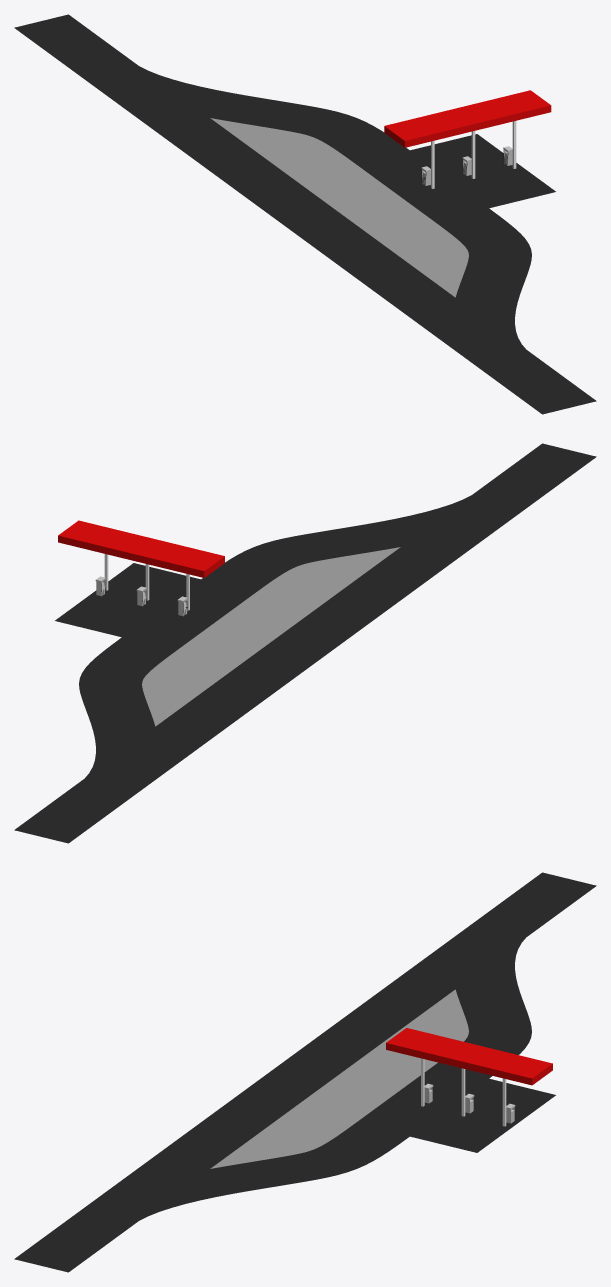
Rendered from GasStation.glb.
3 views of the same model, one above another, from view 1: azimuth 30°, elevation 25°; view 2: azimuth 150°, elevation 25°; view 3: azimuth 330°, elevation 25° (orthographic).
Parts seen in each view (by area): view 1: Road, BézierCurve.002, BézierCurve.003, GasFloor, Roof, Pole; view 2: Road, BézierCurve.002, BézierCurve.003, GasFloor, Roof; view 3: Road, BézierCurve.002, BézierCurve.003, GasFloor, Roof, Pole.
Part boxes in pixels (left/top/right/bottom): Road: left=14, top=14, right=596, bottom=414; BézierCurve.002: left=80, top=60, right=532, bottom=367; BézierCurve.003: left=210, top=118, right=468, bottom=297; GasFloor: left=355, top=134, right=555, bottom=221; Roof: left=384, top=90, right=551, bottom=147; Pole: left=431, top=121, right=516, bottom=188; Road: left=14, top=443, right=596, bottom=843; BézierCurve.002: left=78, top=494, right=528, bottom=795; BézierCurve.003: left=142, top=547, right=400, bottom=726; GasFloor: left=55, top=563, right=255, bottom=650; Roof: left=58, top=520, right=224, bottom=577; Road: left=14, top=872, right=596, bottom=1272; BézierCurve.002: left=81, top=919, right=531, bottom=1219; BézierCurve.003: left=210, top=989, right=468, bottom=1168; GasFloor: left=355, top=1065, right=555, bottom=1152; Roof: left=386, top=1028, right=552, bottom=1085; Pole: left=421, top=1058, right=506, bottom=1126.
Size of the model in its own units: 9.65 by 2.07 by 33.52.
